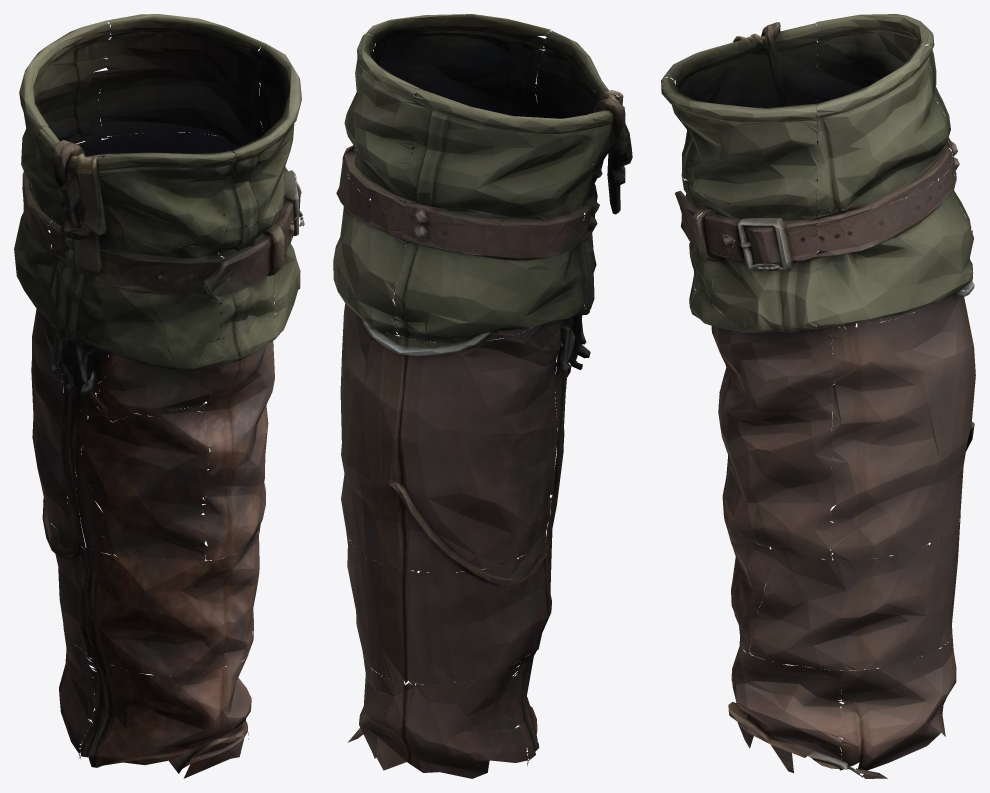
File: a_ranger_boots_R_shaft.glb
3 renders of one model, left to right at view 1: azimuth 30°, elevation 25°; view 2: azimuth 150°, elevation 25°; view 3: azimuth 270°, elevation 25°, orthographic.
Visible parts, largest first — view 1: geometry_0.002; view 2: geometry_0.002; view 3: geometry_0.002.
Boxes of the visible parts, bbox=[...] form: geometry_0.002: bbox=[14, 14, 304, 778]; geometry_0.002: bbox=[333, 14, 632, 778]; geometry_0.002: bbox=[661, 14, 975, 778].
Bounding box in the file's own units: 0.142 × 0.3699 × 0.1517.
Materials: 1 (1 with a texture image).
